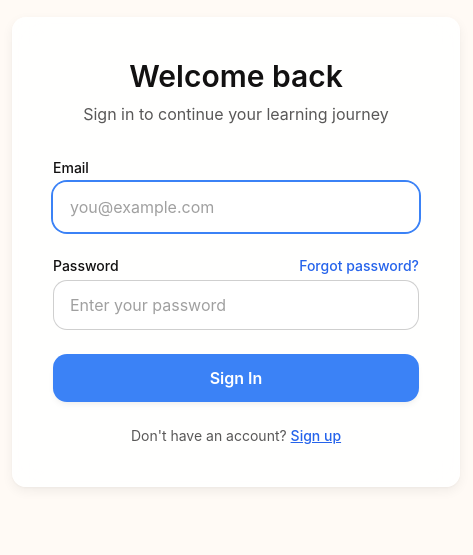
Test: LoginPage › error handling › shows rate limit error with countdown for 429
The width and height of the screenshot is (473, 555).
In the field labelled "Email": (236, 207) [53, 182, 419, 232], type "test@example.com"
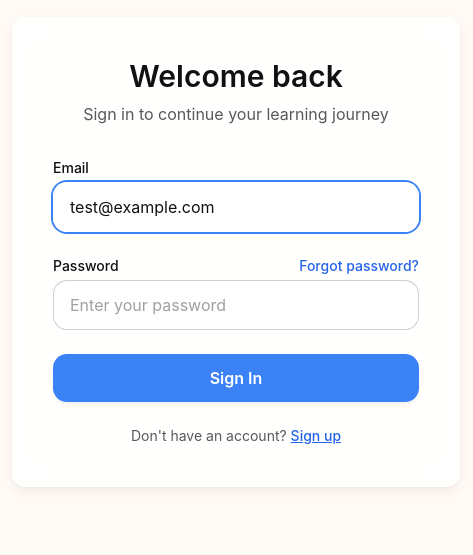
In the password field labelled "Password": (236, 305) [53, 280, 419, 330], type "password"
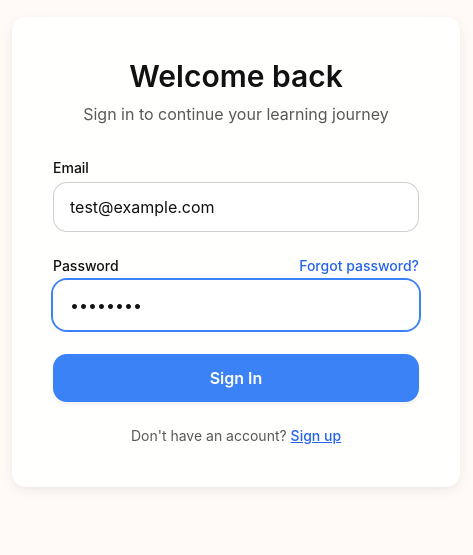
Click the button "Sign In": (236, 378) [53, 354, 419, 402]
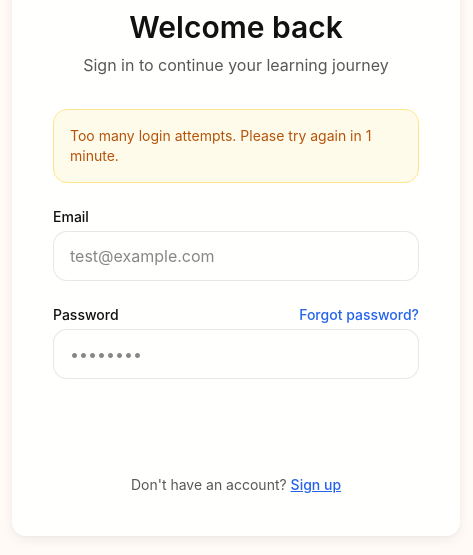
Expected: the text "Too many login attempts. Please try again in 1 minute." is shown, [70, 126, 402, 166]
